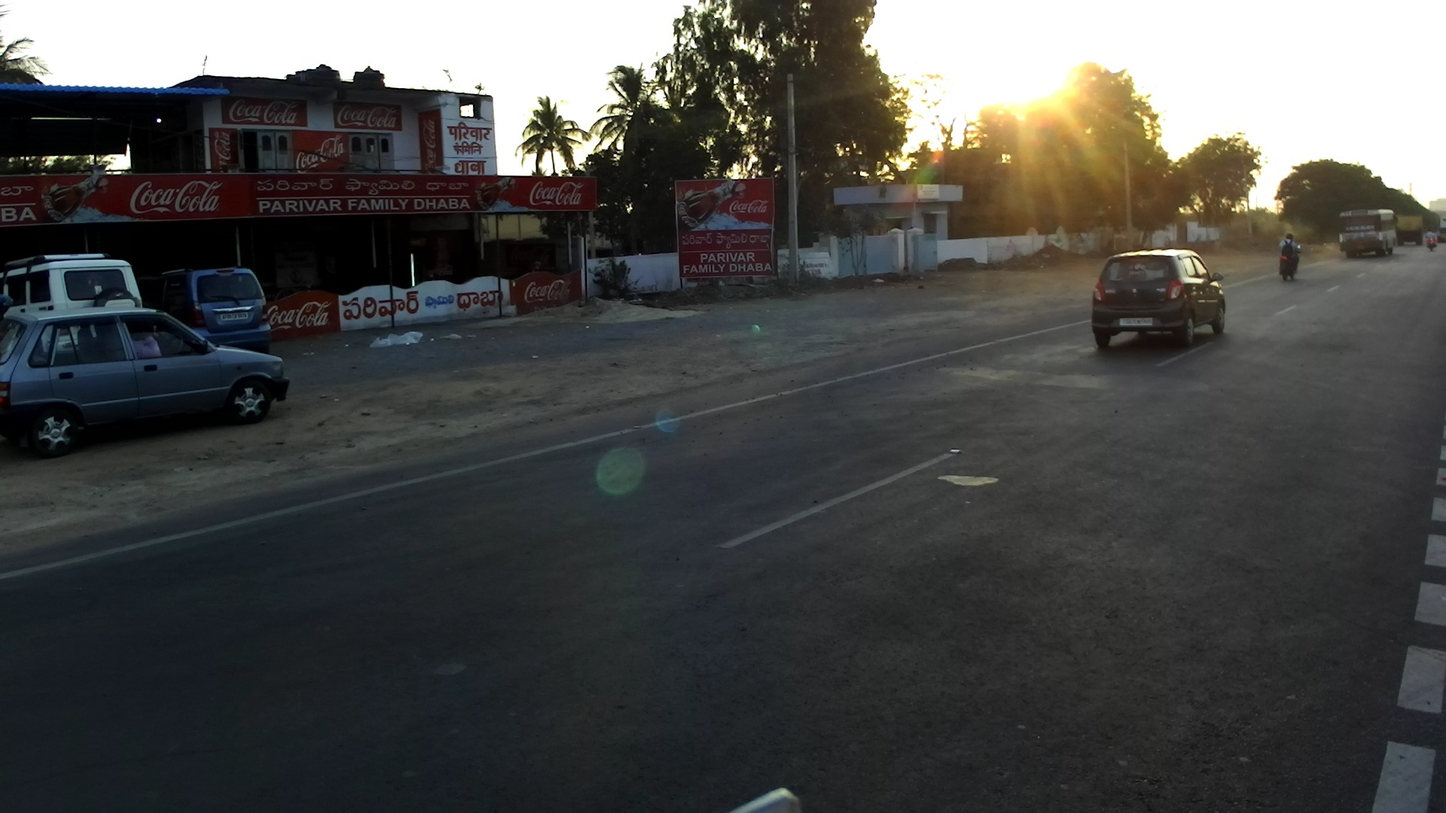bus: (1335, 209, 1399, 259)
car: (1, 302, 289, 461), (1088, 249, 1229, 352), (139, 268, 276, 352), (2, 247, 139, 331)
motorcycle: (1278, 242, 1305, 282), (1426, 237, 1436, 251)
rider: (1278, 232, 1302, 280), (1423, 227, 1440, 249)
truck: (1396, 211, 1427, 248)
vehicle fallback: (1438, 227, 1446, 244)
